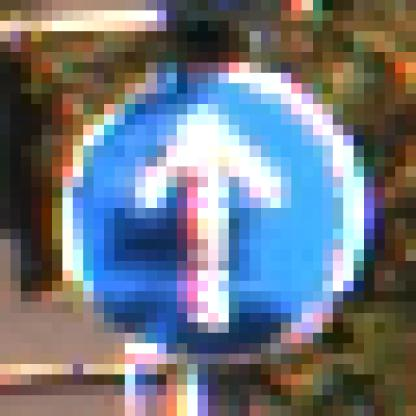AheadOnly: (53, 64, 355, 355)
